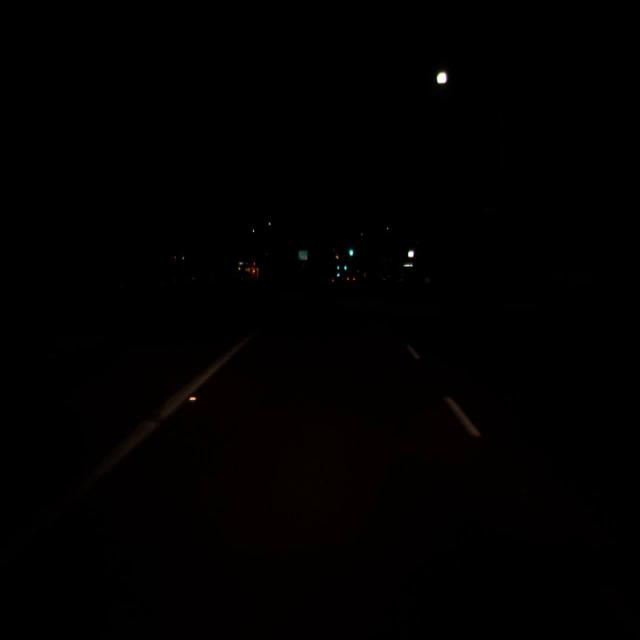go: (350, 251, 353, 253)
go traffic light: (348, 247, 354, 254)
